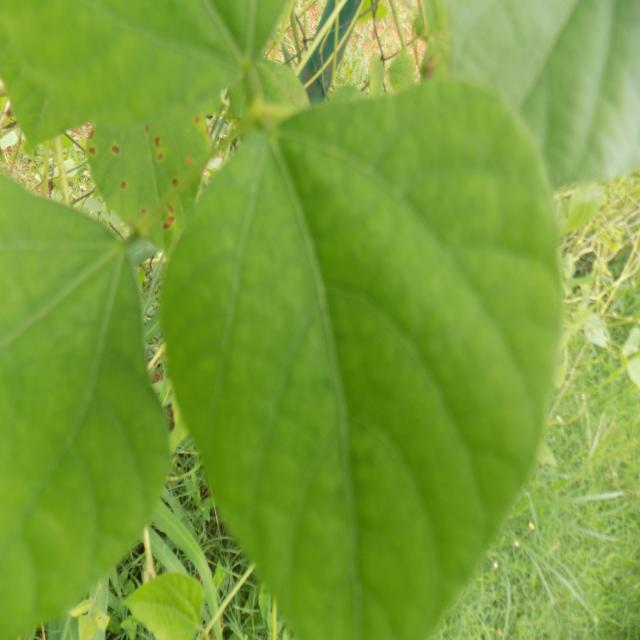Dolicos bean_cercospora leaf spot: (82, 85, 212, 262)
Dolicos bean_healthy: (167, 60, 562, 640)
